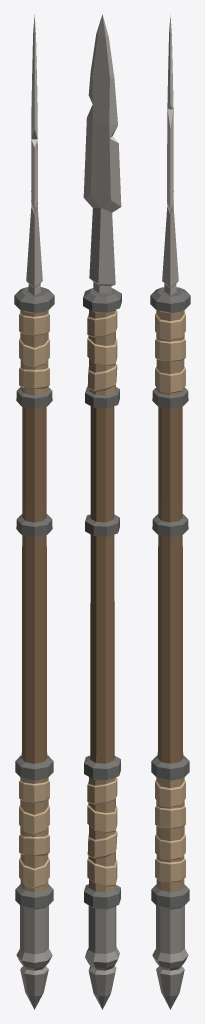
The model's file is SM_pwe_slavic_spear_03.fbx.
3 renders of one model, left to right at view 1: azimuth 90°, elevation 25°; view 2: azimuth 150°, elevation 25°; view 3: azimuth 270°, elevation 25°, orthographic.
Visible parts, largest first — view 1: SM_pwe_slavic_spear_03; view 2: SM_pwe_slavic_spear_03; view 3: SM_pwe_slavic_spear_03.
Boxes of the visible parts, x1=… form: SM_pwe_slavic_spear_03: x1=14, y1=15, x2=54, y2=1009; SM_pwe_slavic_spear_03: x1=83, y1=14, x2=121, y2=1009; SM_pwe_slavic_spear_03: x1=150, y1=15, x2=190, y2=1009.
Size of the model in its own units: 7.72 by 195 by 7.15.
